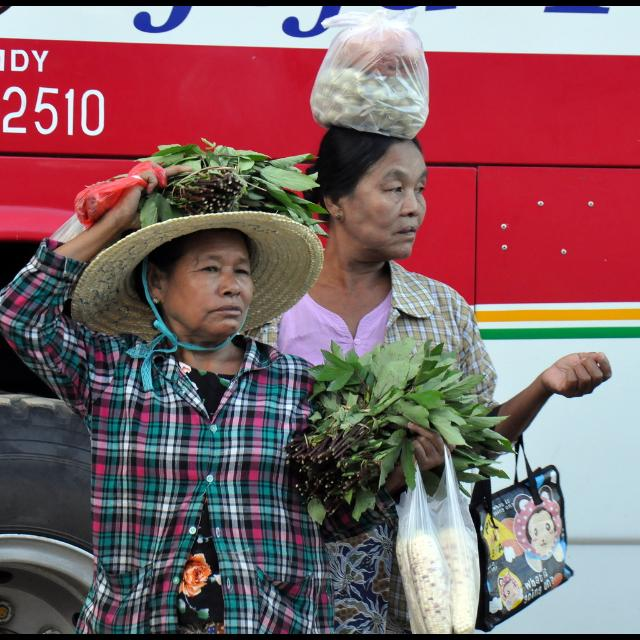Flower: (176, 551, 210, 597)
